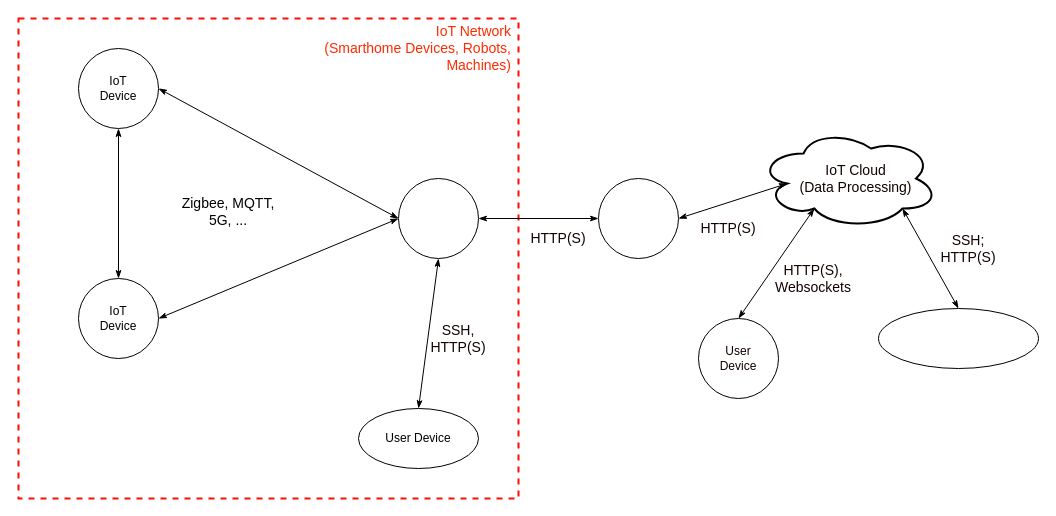
This 1056x516 diagram has some shape labels left out. The shapes that lost their labels are listed below. From the top down, each one's box as (x1, y1, x2, y2) in pixels, then its label:
(398, 178, 478, 258): IoT Gateway
(598, 178, 678, 258): Router
(878, 308, 1038, 368): Remote Administration
